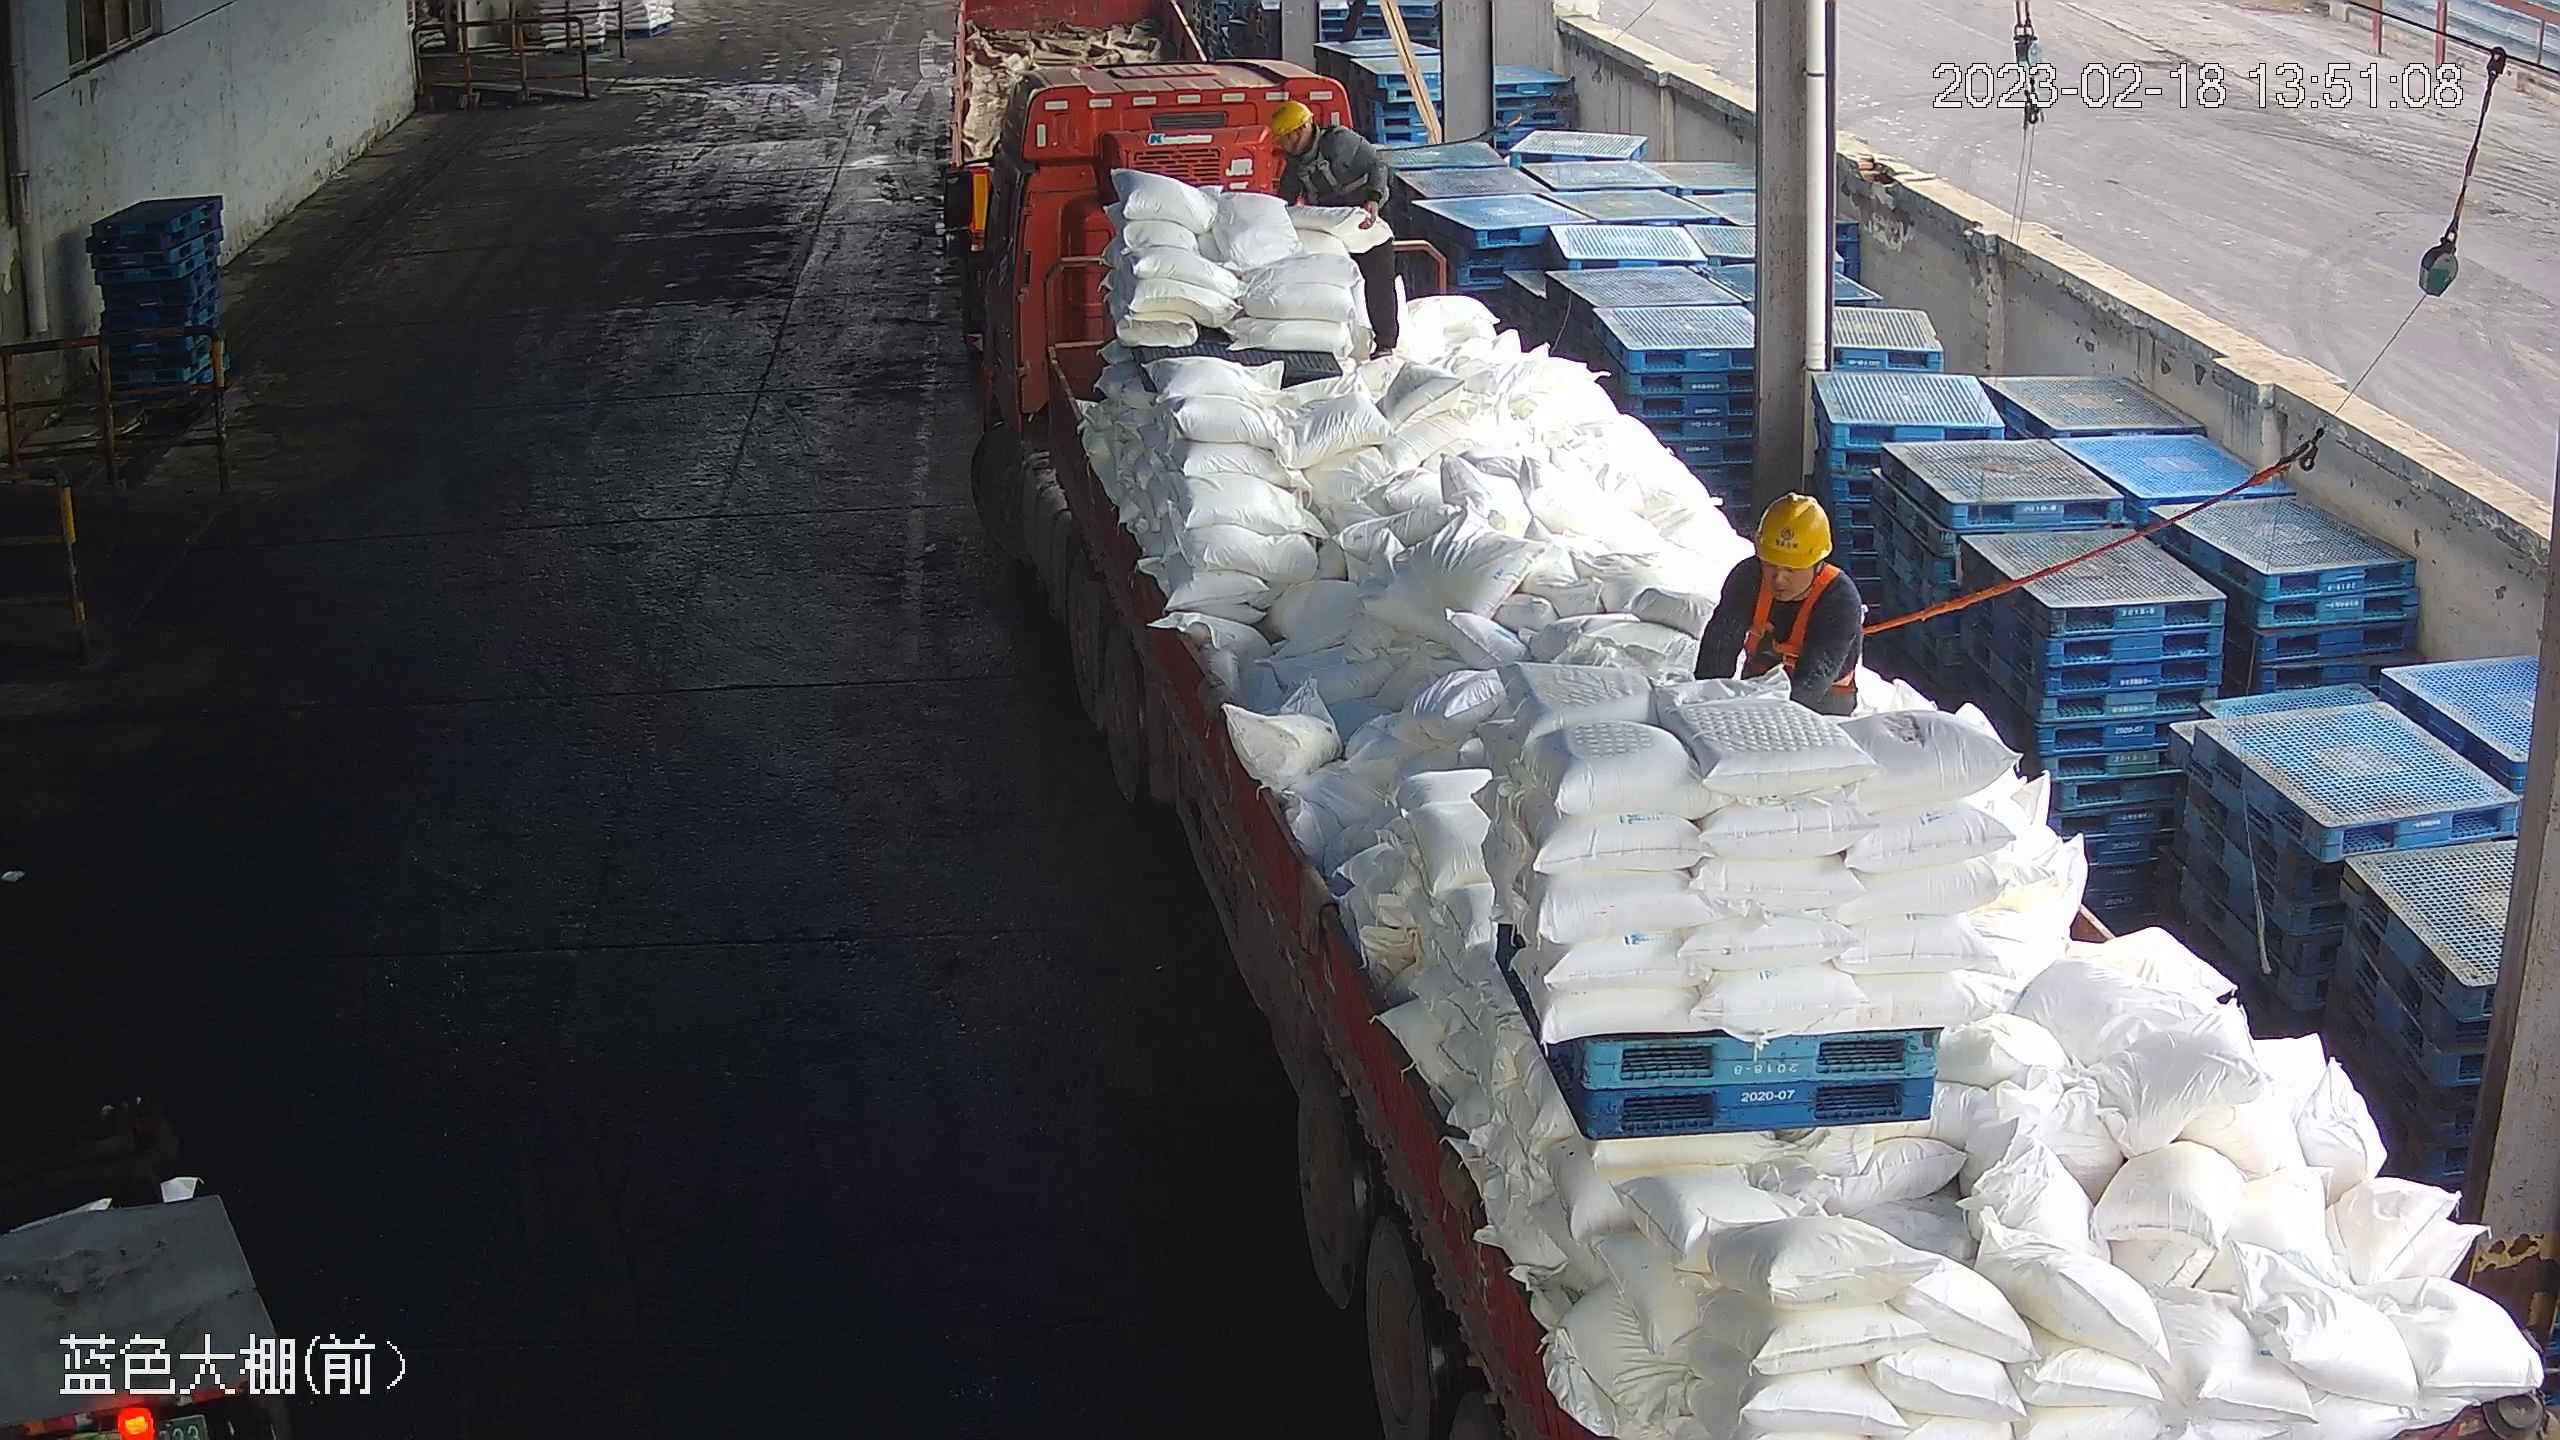belt: (1744, 574, 1883, 693), (1286, 142, 1395, 210)
head: (1703, 491, 1873, 664), (1267, 106, 1378, 191)
helmet: (1752, 488, 1837, 569), (1267, 103, 1313, 144)
people: (1267, 100, 1403, 350)
truck: (959, 67, 2560, 1440)
